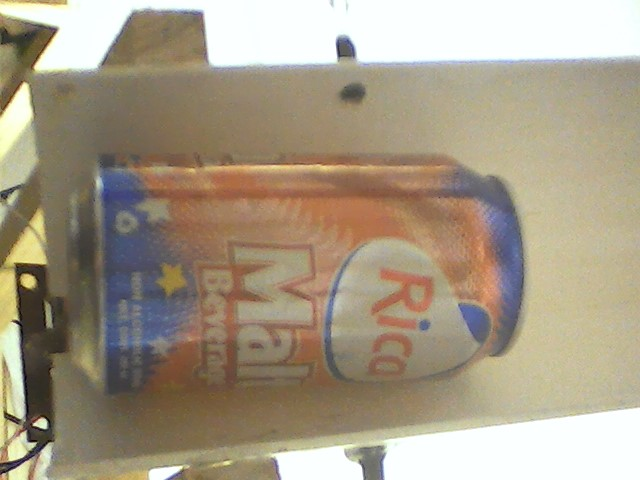lata: (60, 143, 538, 399)
